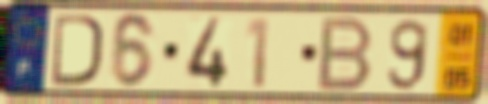1: (244, 14, 272, 91)
4: (183, 13, 231, 91)
6: (107, 11, 161, 91)
9: (384, 17, 431, 92)
B: (313, 14, 376, 93)
D: (49, 11, 105, 88)
